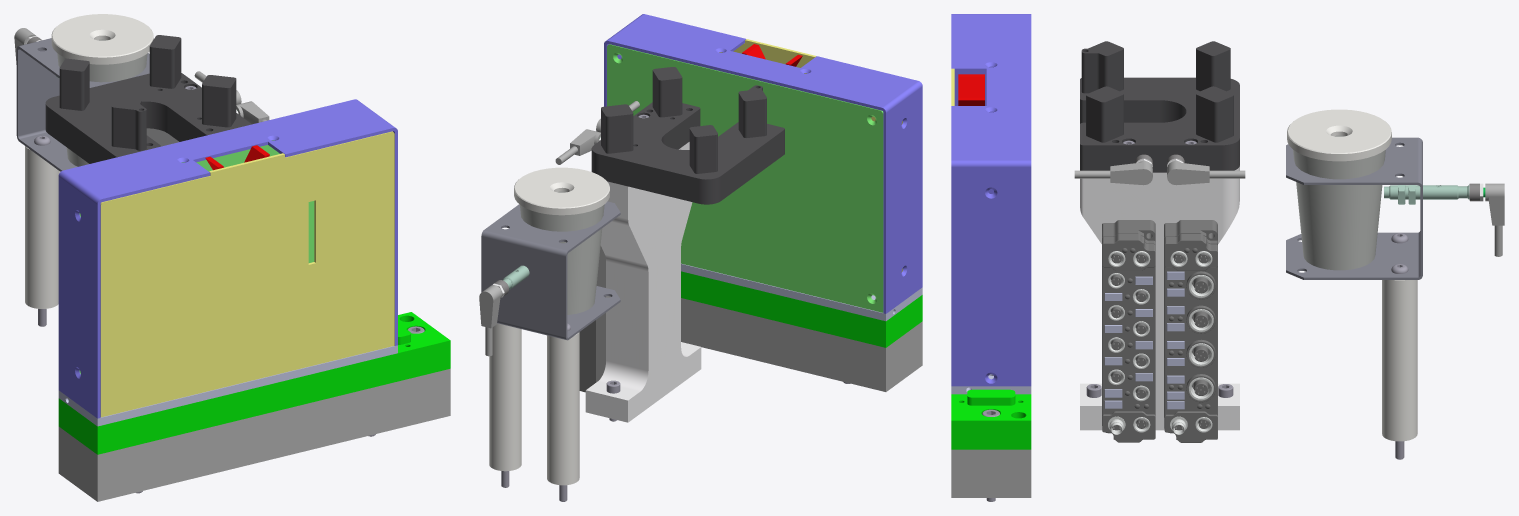
File: ApplicatorHeating-transformed.glb
The picture shows the model from 3 angles, left to right: view 1: azimuth 30°, elevation 25°; view 2: azimuth 150°, elevation 25°; view 3: azimuth 270°, elevation 25°; orthographic projection. The views are drawn at different scales.
Parts seen in each view (by area): view 1: NVUVA00100230.ipt001; view 2: NVUVA00100230.ipt001; view 3: NVUVA00100230.ipt001.
Part boxes in pixels (x1,y1,x2,y2): NVUVA00100230.ipt001: [14, 14, 450, 501]; NVUVA00100230.ipt001: [479, 14, 922, 501]; NVUVA00100230.ipt001: [951, 14, 1504, 501].
Bounding box in the file's own units: 0.235 × 0.217 × 0.3115.
1 material, 1 textured.
